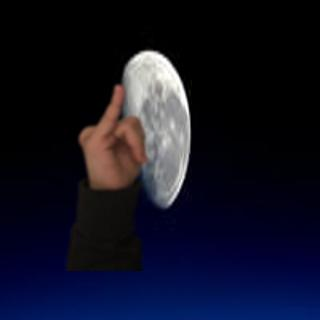HAVE: (73, 83, 153, 190)
